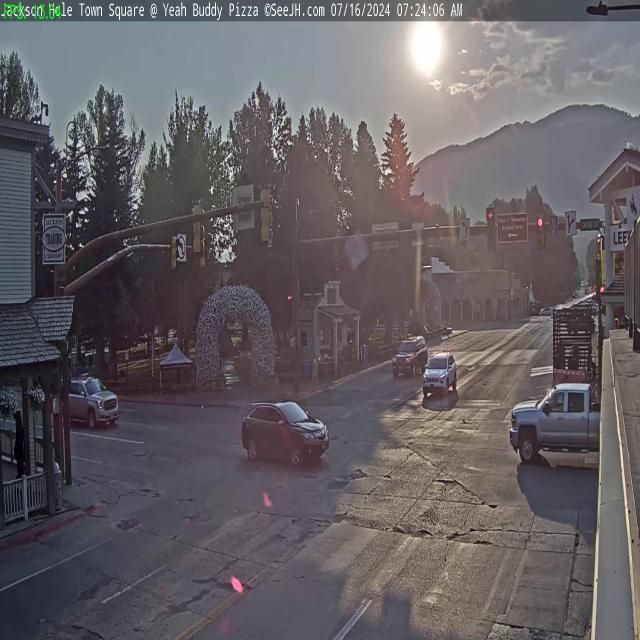pickup: (506, 374, 604, 478)
suv: (240, 396, 330, 467), (62, 374, 119, 431), (422, 350, 458, 400), (394, 333, 429, 377)
traffic light: (190, 199, 204, 256), (486, 208, 496, 252), (170, 230, 179, 271), (536, 215, 544, 248)
